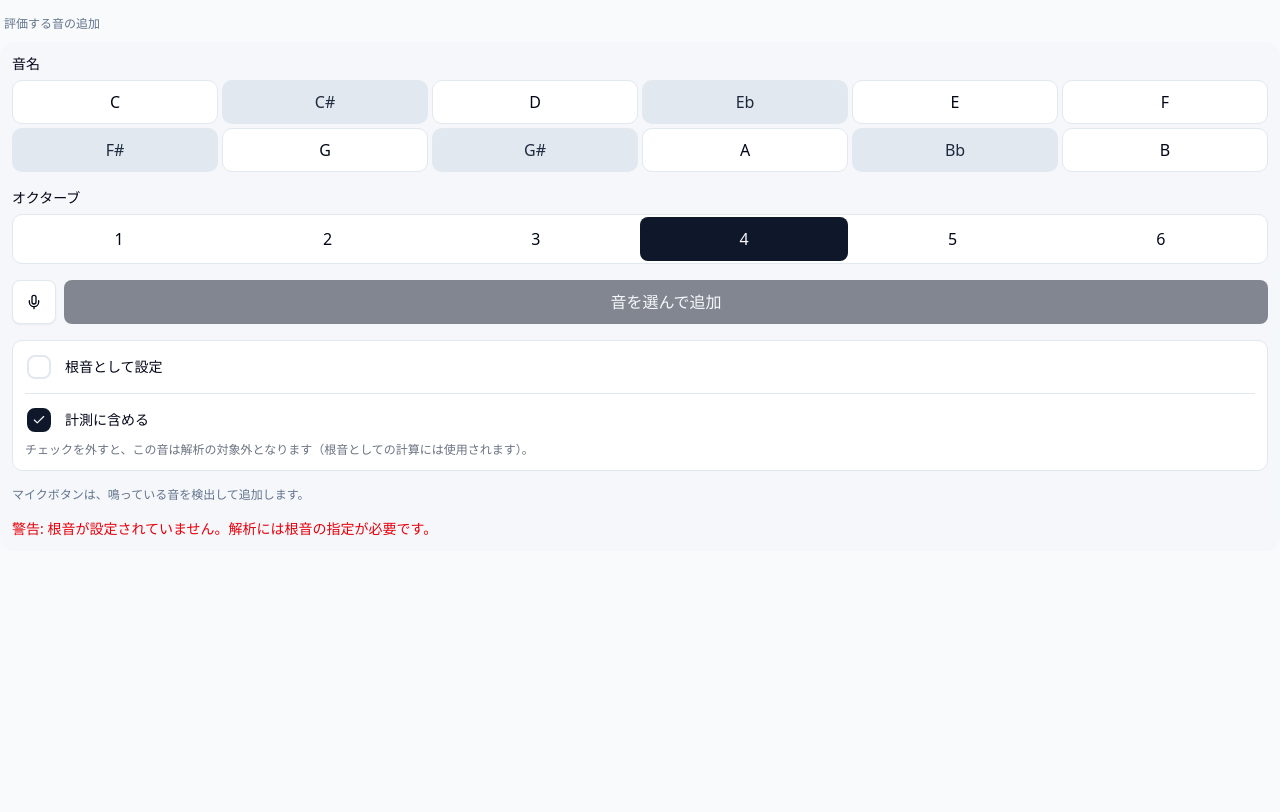
Test: PitchSettingForm › submits the form with the correct data
音名をワンタップで選択
Click the button "C": (115, 102) [12,80,218,124]
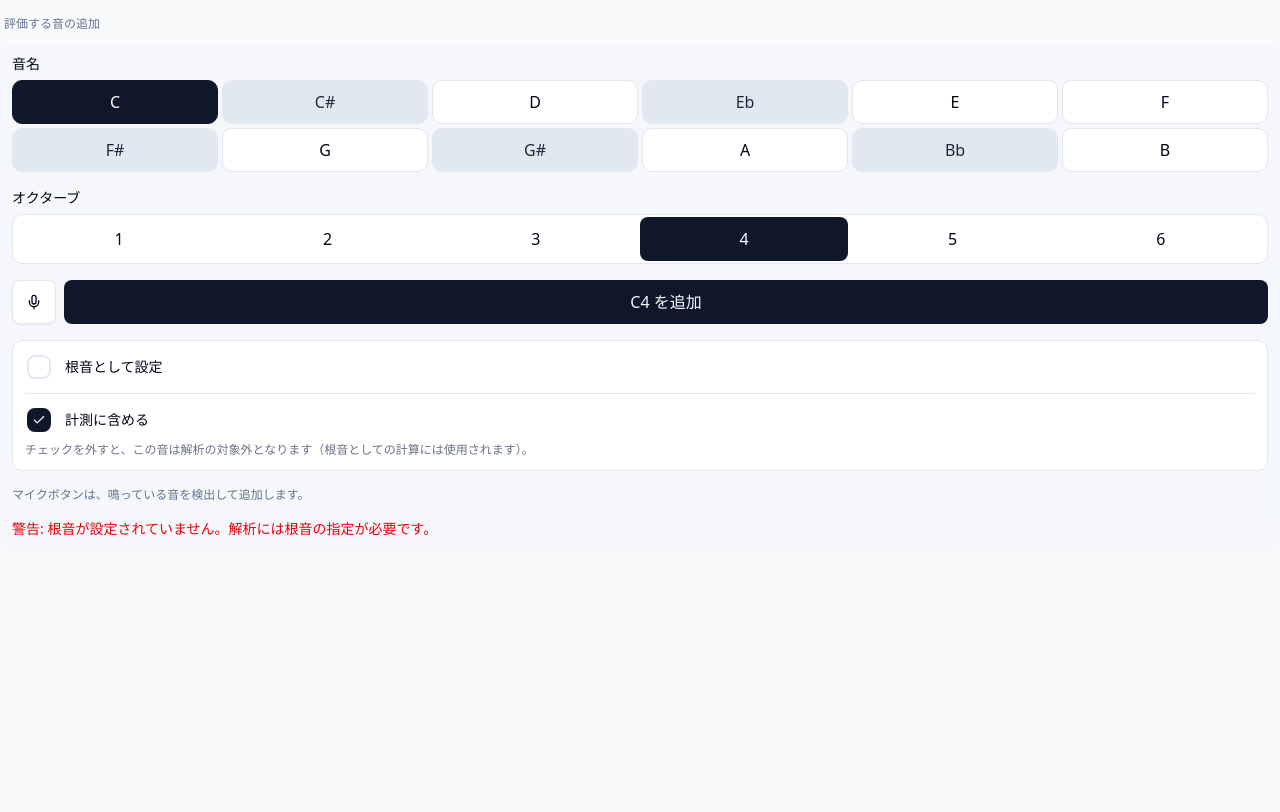
Expected: the button "C" is pressed, [12,80,218,124]
Click the button "C4 を追加": (666, 302) [64,280,1268,324]
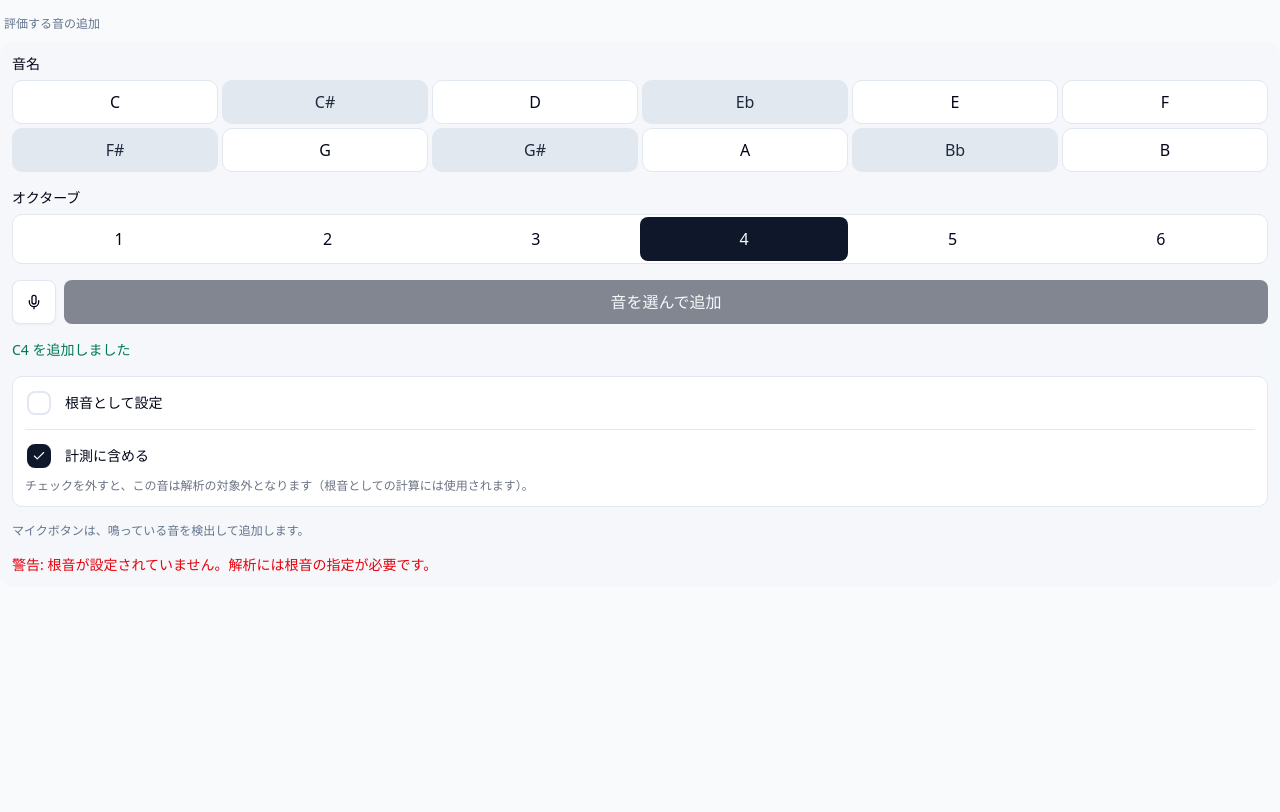
Expected: the message reads "C4 を追加しました", [12,340,130,359]
